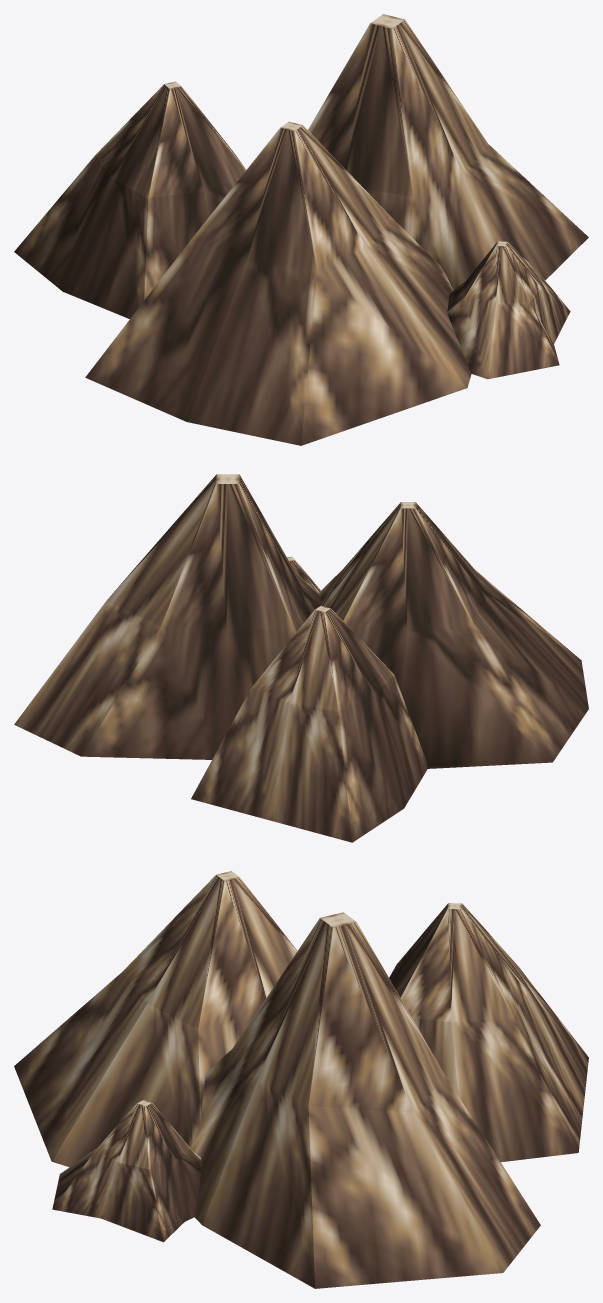
Rendered from Poly_World_Map_Mountain_Brown_02.obj.
3 renders of one model, top to bottom at view 1: azimuth 30°, elevation 25°; view 2: azimuth 150°, elevation 25°; view 3: azimuth 270°, elevation 25°, orthographic. The views are drawn at different scales.
Parts seen in each view (by area): view 1: Cube.001_Cube.002, Cube.002_Cube.003, Cube_Cube.001, Cube.003_Cube.004; view 2: Cube.002_Cube.003, Cube.001_Cube.002, Cube_Cube.001; view 3: Cube.002_Cube.003, Cube.001_Cube.002, Cube_Cube.001, Cube.003_Cube.004.
Boxes of the visible parts, left/top/right/bottom form: Cube.001_Cube.002: left=85, top=121, right=471, bottom=445; Cube.002_Cube.003: left=308, top=14, right=588, bottom=289; Cube_Cube.001: left=14, top=81, right=245, bottom=318; Cube.003_Cube.004: left=447, top=241, right=570, bottom=379; Cube.002_Cube.003: left=14, top=474, right=322, bottom=759; Cube.001_Cube.002: left=319, top=502, right=588, bottom=768; Cube_Cube.001: left=191, top=606, right=427, bottom=842; Cube.002_Cube.003: left=191, top=912, right=540, bottom=1288; Cube.001_Cube.002: left=14, top=871, right=297, bottom=1167; Cube_Cube.001: left=389, top=903, right=588, bottom=1162; Cube.003_Cube.004: left=52, top=1100, right=201, bottom=1242.
Bounding box in the file's own units: 1.7 × 0.7921 × 1.53.
Materials: 1 (1 with a texture image).
